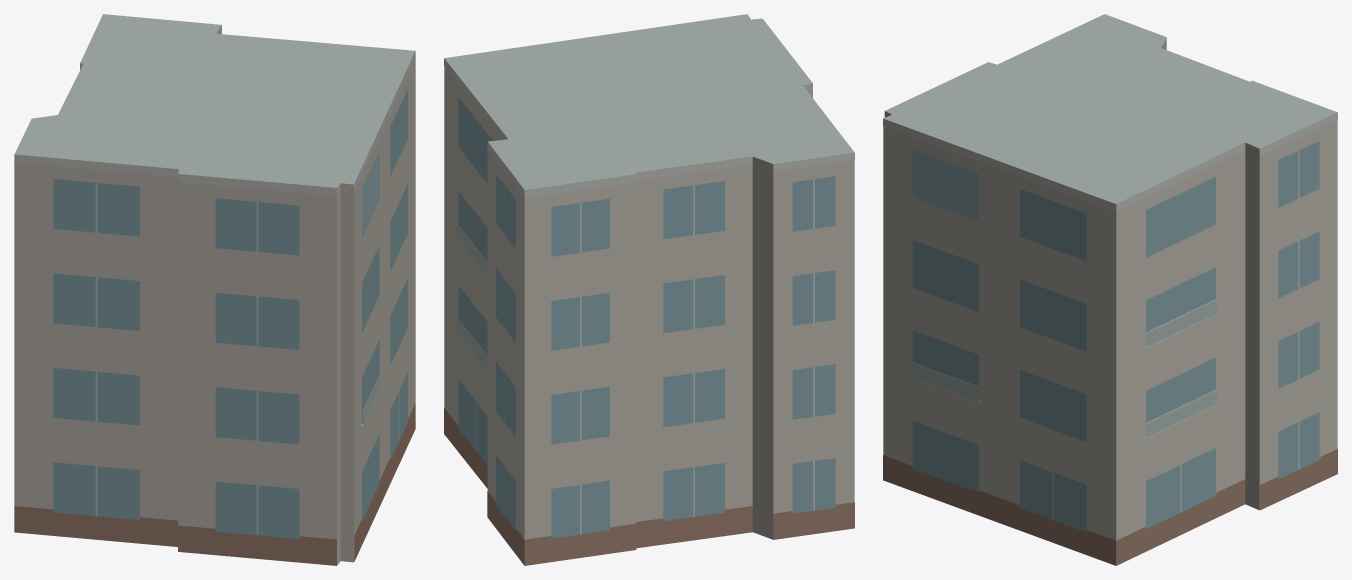
The model's file is survey-upis-32965905.glb.
The picture shows the model from 3 angles, left to right: view 1: azimuth 30°, elevation 25°; view 2: azimuth 150°, elevation 25°; view 3: azimuth 270°, elevation 25°; orthographic projection. The views are drawn at different scales.
Parts seen in each view (by area): view 1: survey-upis-32965905.tmp; view 2: survey-upis-32965905.tmp; view 3: survey-upis-32965905.tmp.
Part boxes in pixels (x1,y1,x2,y2): survey-upis-32965905.tmp: (14, 14, 415, 565); survey-upis-32965905.tmp: (444, 14, 854, 565); survey-upis-32965905.tmp: (883, 14, 1337, 565).
Size of the model in its own units: 13.08 by 11.6 by 13.22.
